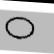no answer: (5, 15, 38, 42)
